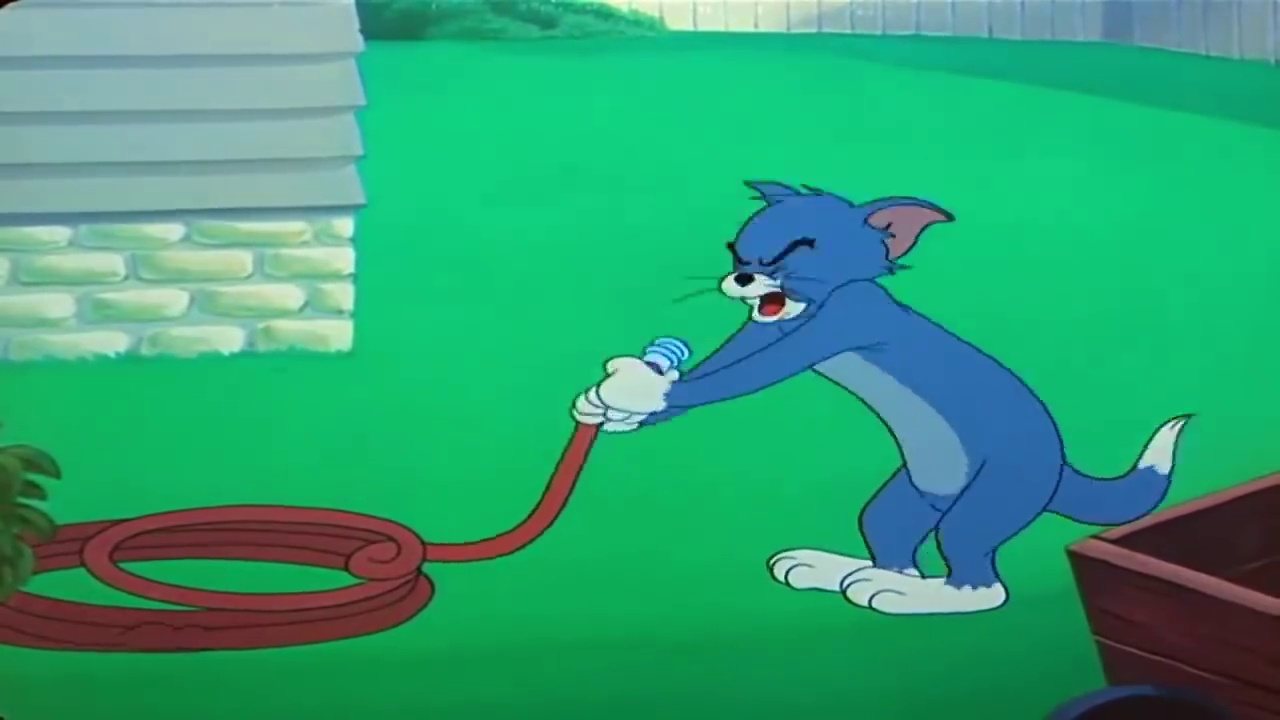tom: (708, 175, 961, 333)
